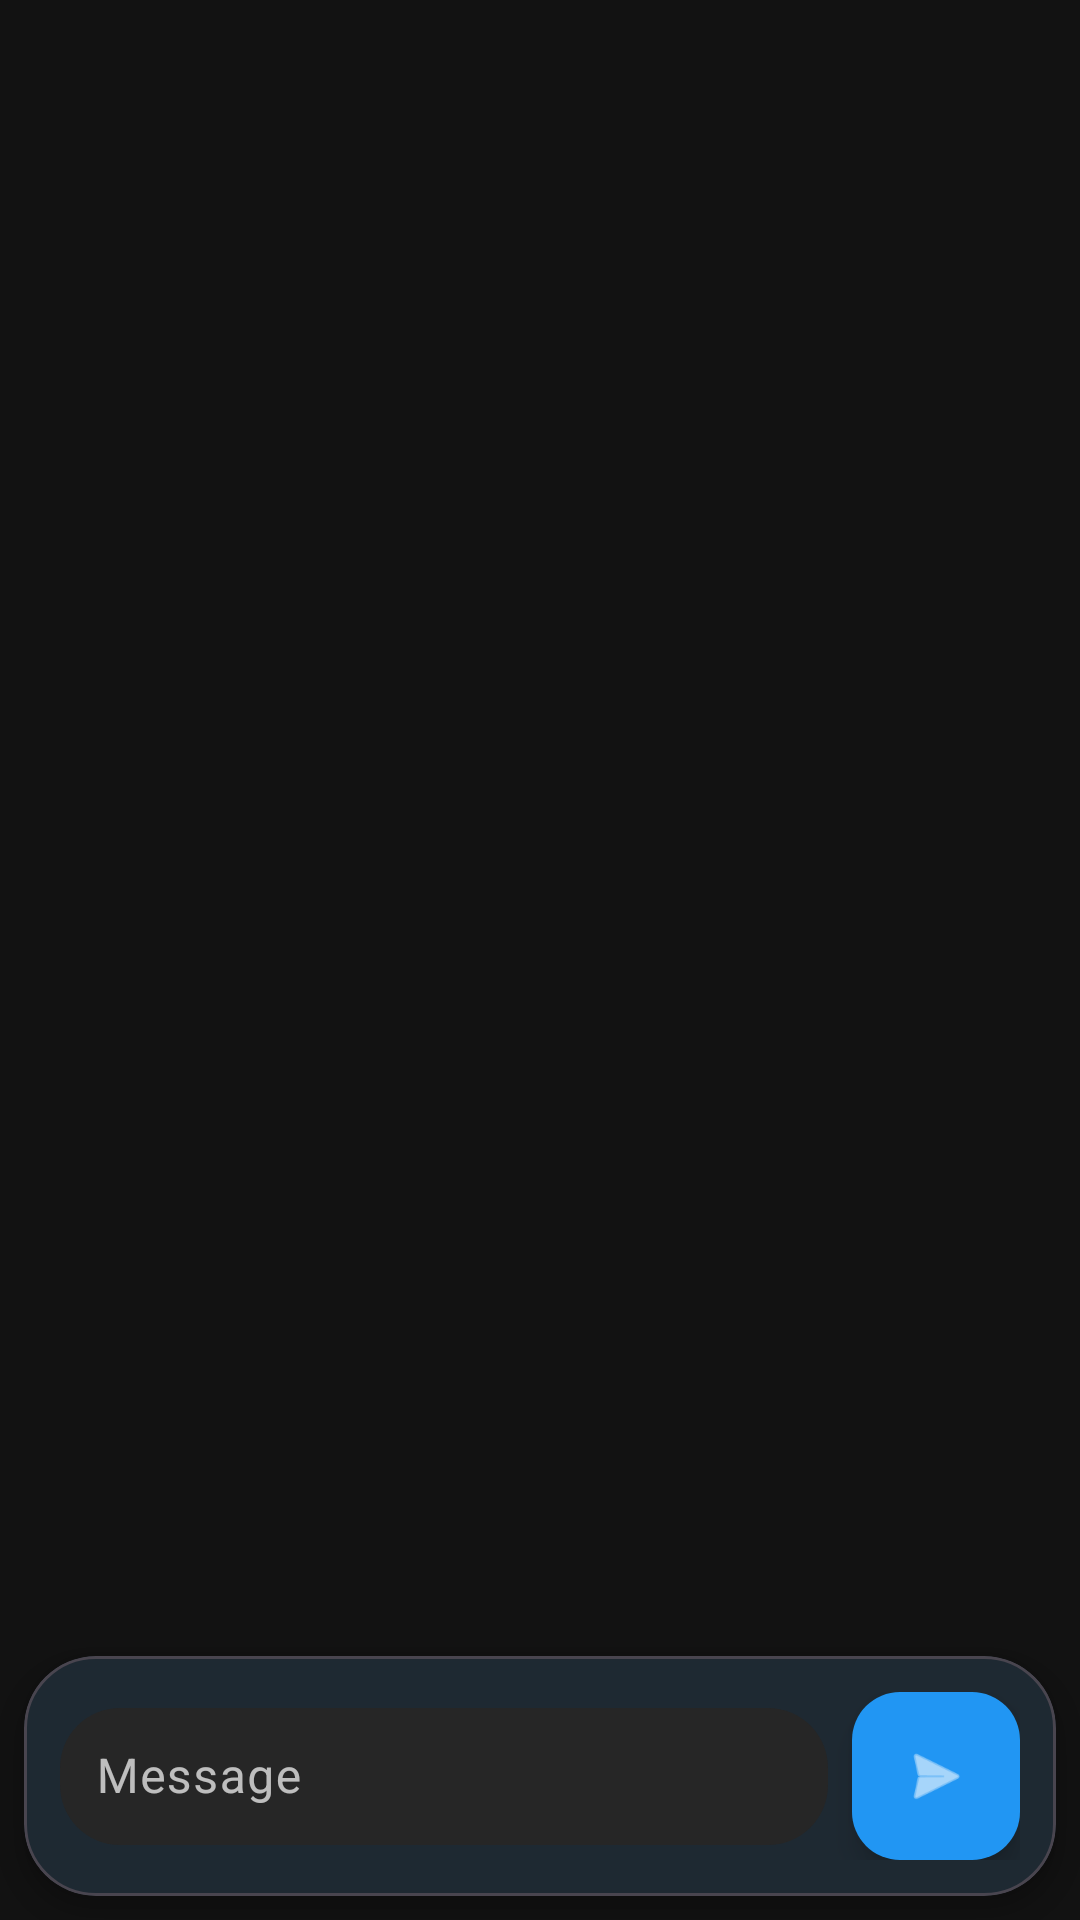

Screen size 1080px×1920px. Icon name, then its center in pixels as (x=x, y=y):
Send: (x=936, y=1776)
